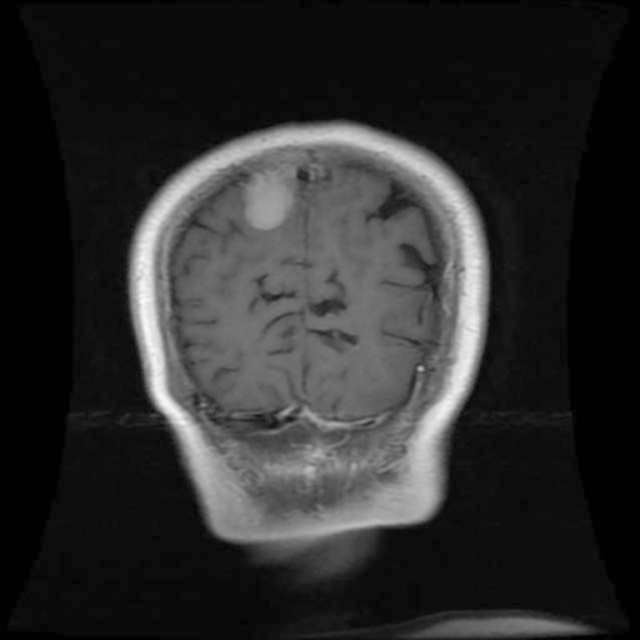meningioma tumor: (238, 160, 298, 238)
